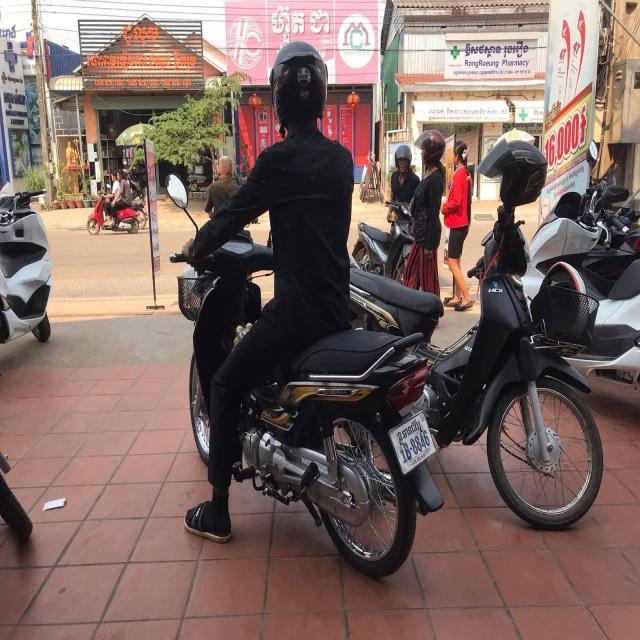Oudor_Meanchey: (398, 419, 421, 442)
